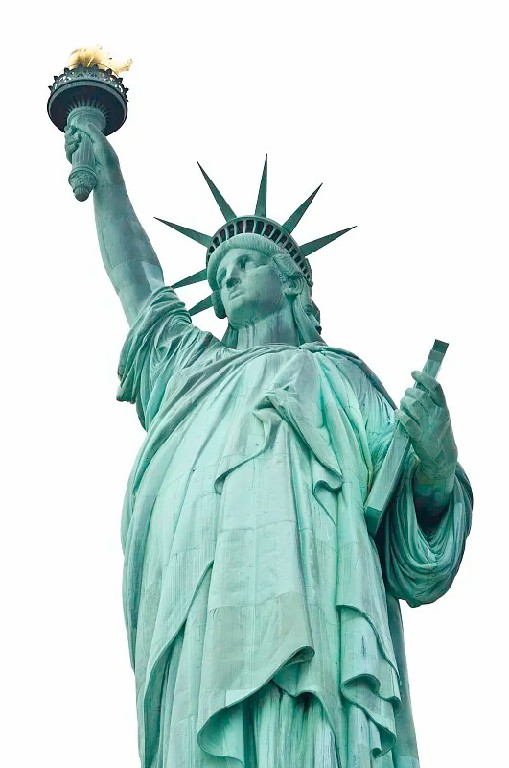SL: (47, 42, 474, 768)
